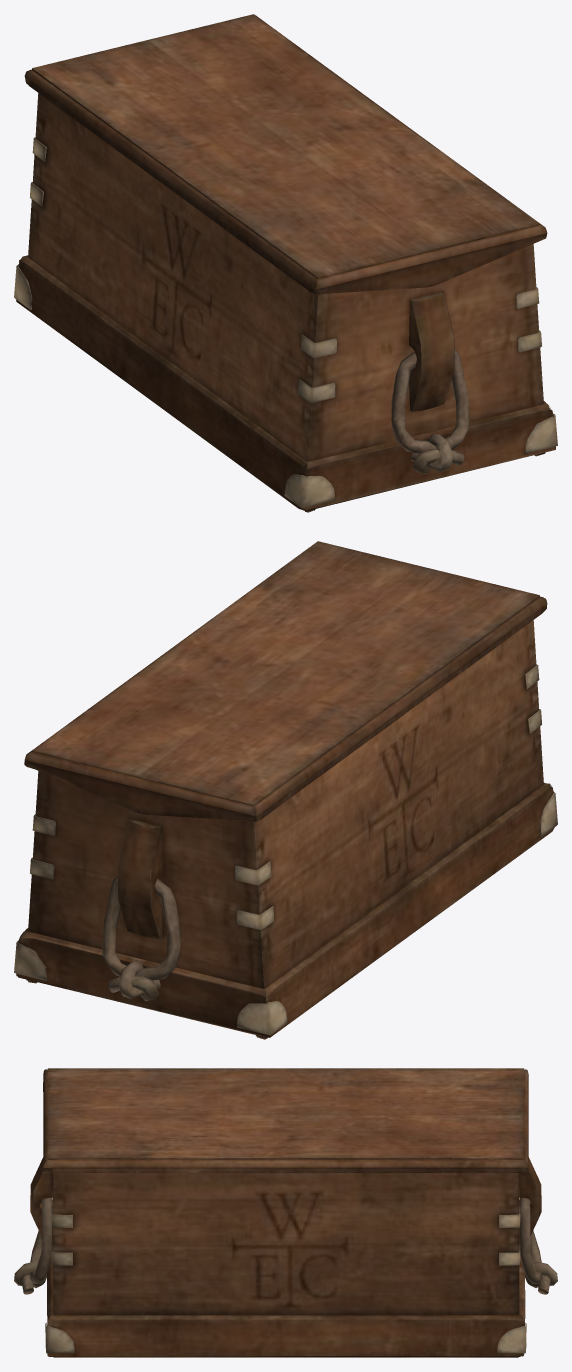
Rendered from wooden_crate_02.glb.
3 views of the same model, one above another, from view 1: azimuth 30°, elevation 25°; view 2: azimuth 150°, elevation 25°; view 3: azimuth 270°, elevation 25° (orthographic). The views are drawn at different scales.
Parts seen in each view (by area): view 1: wooden_crate_02; view 2: wooden_crate_02; view 3: wooden_crate_02.
Part boxes in pixels (left/top/right/bottom): wooden_crate_02: left=14, top=14, right=557, bottom=512; wooden_crate_02: left=14, top=541, right=557, bottom=1039; wooden_crate_02: left=14, top=1068, right=557, bottom=1357.
Bounding box in the file's own units: 0.5291 × 0.4641 × 1.17.
Materials: 1 (1 with a texture image).
